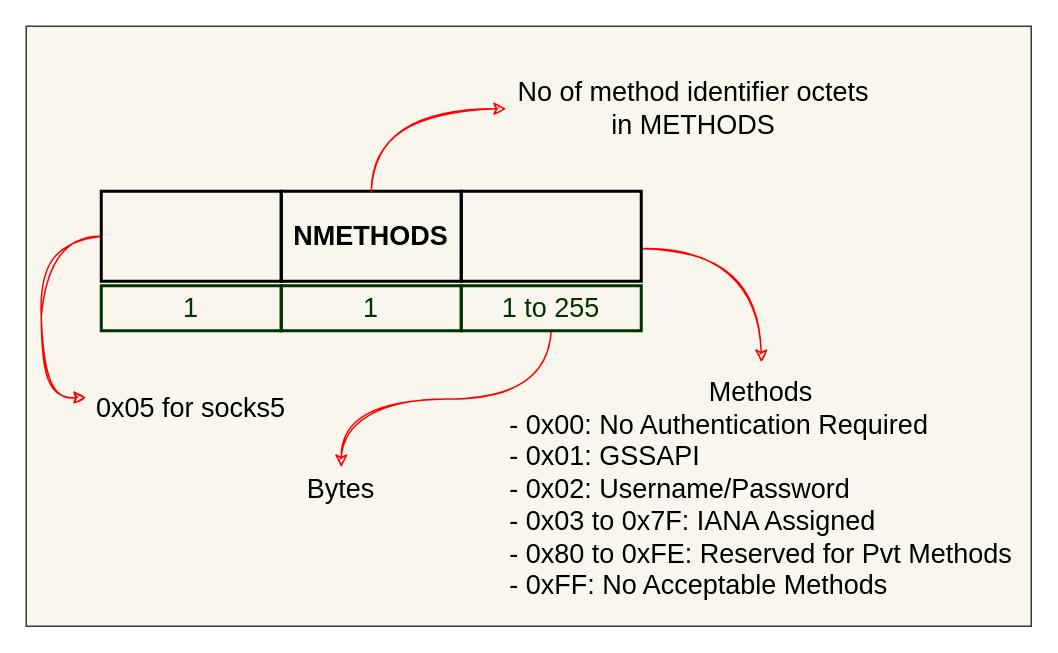
Some shapes in this 1058 by 653 pixel diagram are drawn without their labels. Here are the shapes that lost their labels. From the top down, the centre of each, then its label:
At point 190,235: "VER".
At point 550,235: "METHODS".
